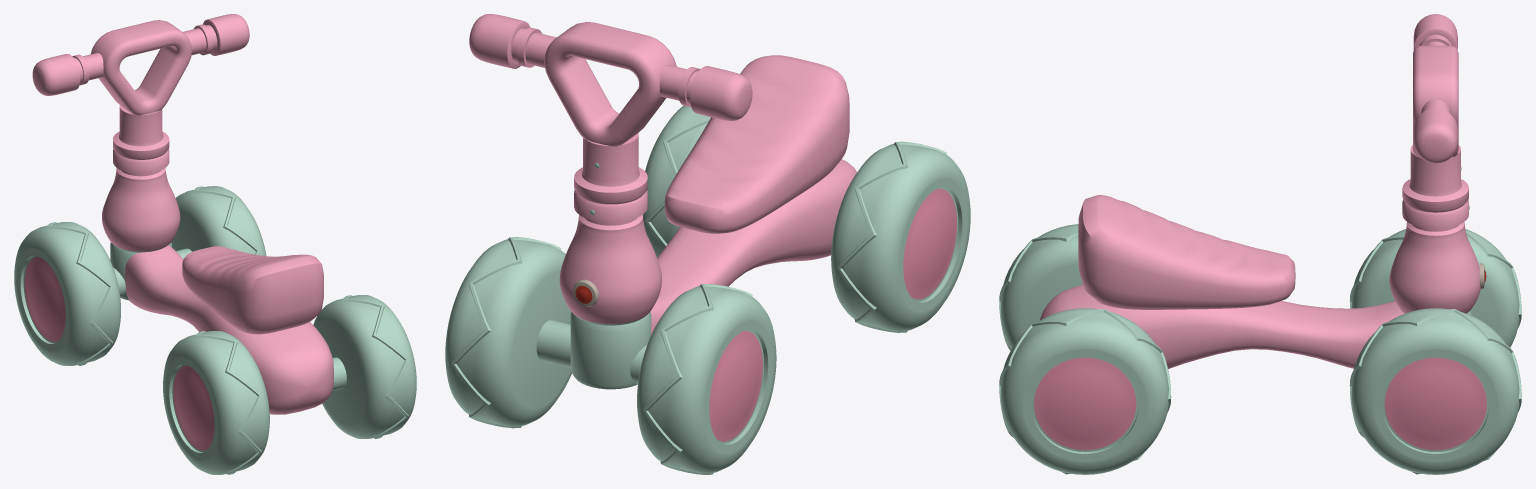
The model's file is ana-veiculo-integracao-v01.glb.
The picture shows the model from 3 angles, left to right: view 1: azimuth 30°, elevation 25°; view 2: azimuth 150°, elevation 25°; view 3: azimuth 270°, elevation 25°; orthographic projection. The views are drawn at different scales.
Visible parts, largest first — view 1: RearLeftWheelMesh, FrontLeftWheelMesh, PinkBody, RearRightWheelMesh, ElongatedSeat, TriangularHandlebar, SteeringPostLower, FrontRightWheelMesh, HandlebarGrip, SteeringPostUpper; view 2: FrontLeftWheelMesh, RearLeftWheelMesh, ElongatedSeat, FrontRightWheelMesh, SteeringPostLower, PinkBody, TriangularHandlebar, HandlebarGrip, SteeringPostUpper, RearRightWheelMesh, FrontAxle, FrontLamp; view 3: FrontRightWheelMesh, RearRightWheelMesh, ElongatedSeat, PinkBody, SteeringPostLower, FrontLeftWheelMesh, RearLeftWheelMesh, SteeringPostUpper, HandlebarGrip, TriangularHandlebar.
Boxes of the visible parts, x1,y1,x2,y2 form: RearLeftWheelMesh: (163, 331, 269, 474); FrontLeftWheelMesh: (14, 222, 120, 365); PinkBody: (125, 245, 333, 414); RearRightWheelMesh: (313, 295, 416, 438); ElongatedSeat: (182, 246, 323, 334); TriangularHandlebar: (91, 20, 191, 115); SteeringPostLower: (102, 168, 180, 300); FrontRightWheelMesh: (171, 186, 266, 255); HandlebarGrip: (32, 14, 249, 95); SteeringPostUpper: (113, 105, 169, 173); FrontLeftWheelMesh: (637, 284, 776, 474); RearLeftWheelMesh: (831, 141, 970, 332); ElongatedSeat: (664, 55, 849, 233); FrontRightWheelMesh: (445, 237, 571, 428); SteeringPostLower: (559, 215, 661, 389); PinkBody: (650, 159, 857, 335); TriangularHandlebar: (544, 21, 676, 146); HandlebarGrip: (469, 14, 752, 120); SteeringPostUpper: (574, 133, 647, 222); RearRightWheelMesh: (643, 105, 710, 257); FrontAxle: (536, 320, 646, 383); FrontLamp: (573, 279, 598, 306); FrontRightWheelMesh: (1349, 308, 1521, 474); RearRightWheelMesh: (999, 308, 1171, 474); ElongatedSeat: (1078, 195, 1295, 309); PinkBody: (1040, 284, 1404, 368); SteeringPostLower: (1389, 222, 1480, 315); FrontLeftWheelMesh: (1349, 229, 1521, 347); RearLeftWheelMesh: (999, 224, 1082, 350); SteeringPostUpper: (1402, 145, 1469, 228); HandlebarGrip: (1413, 14, 1457, 163); TriangularHandlebar: (1413, 45, 1458, 157).
Size of the model in its own units: 0.4 by 0.5777 by 0.7452.
